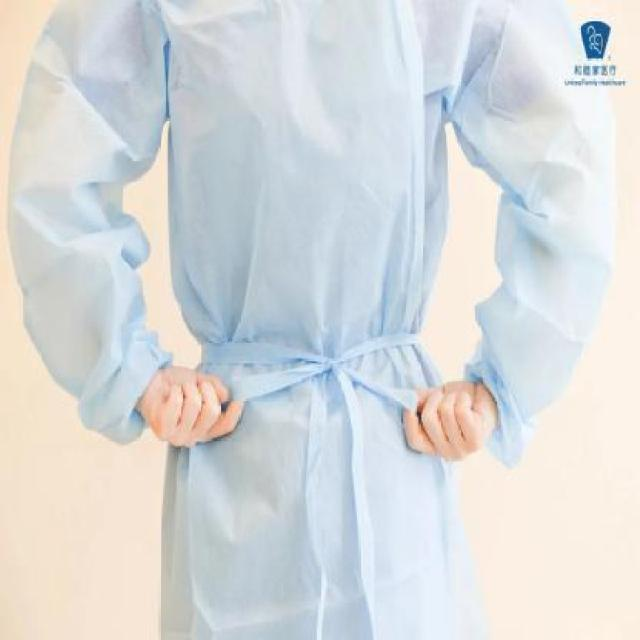hand_noglove: (143, 366, 245, 445), (402, 377, 493, 458)
